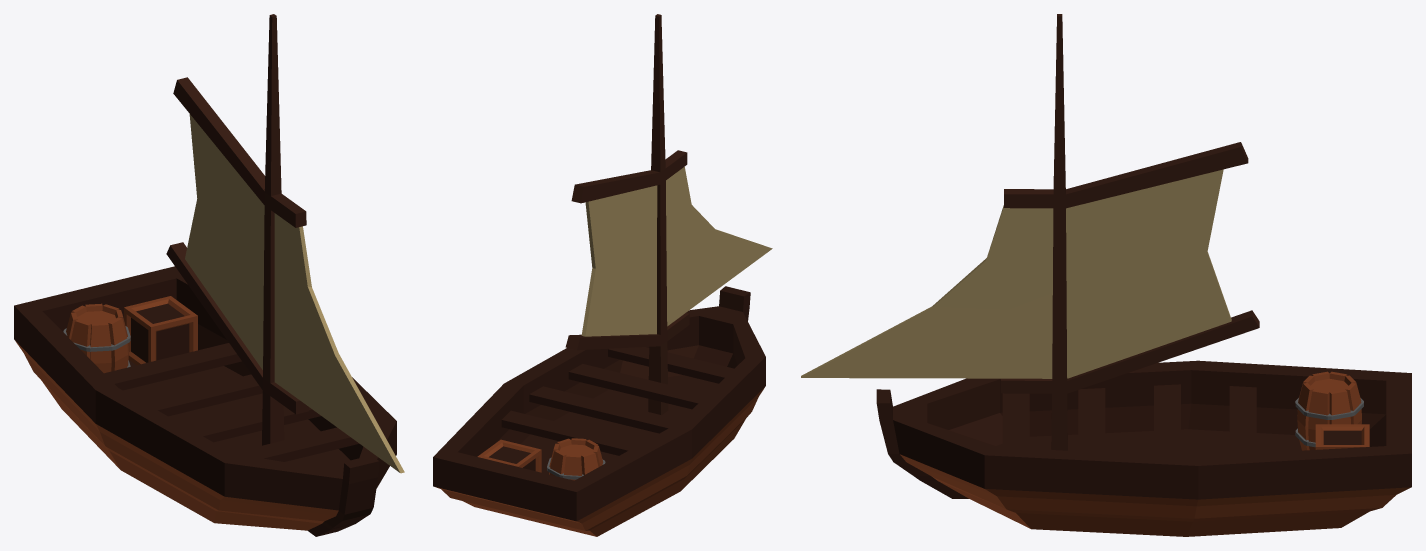
Rendered from BoatWSail.glb.
3 views of the same model, side by side, from view 1: azimuth 30°, elevation 25°; view 2: azimuth 150°, elevation 25°; view 3: azimuth 270°, elevation 25° (orthographic). The views are drawn at different scales.
Parts seen in each view (by area): view 1: Boat, Sail; view 2: Boat, Sail; view 3: Boat, Sail.
Boxes of the visible parts, x1,y1,x2,y2 form: Boat: (14,266,396,536); Sail: (166,14,404,473); Boat: (433,286,765,536); Sail: (565,14,772,415); Boat: (876,360,1411,536); Sail: (801,14,1259,450).
Bounding box in the file's own units: 40.32 × 85.47 × 98.9.
